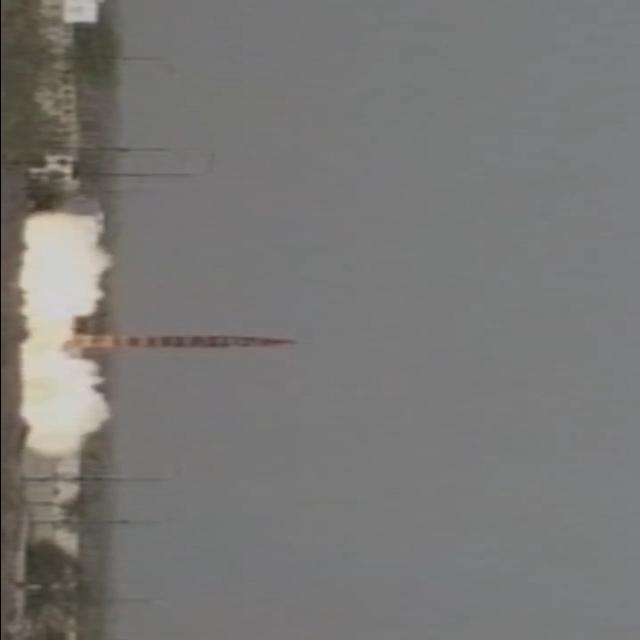missile: (66, 334, 298, 356)
